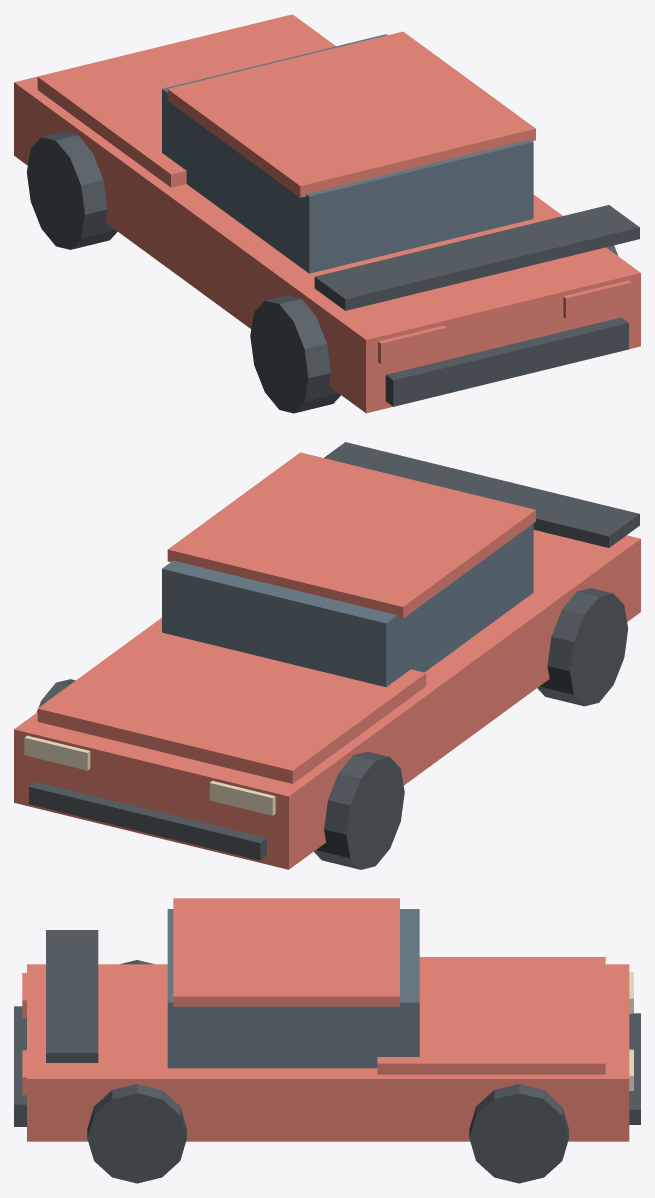
Rendered from red-car.glb.
The picture shows the model from 3 angles, top to bottom: view 1: azimuth 30°, elevation 25°; view 2: azimuth 150°, elevation 25°; view 3: azimuth 270°, elevation 25°; orthographic projection. The views are drawn at different scales.
Size of the model in its own units: 2.28 by 1.35 by 4.53.
